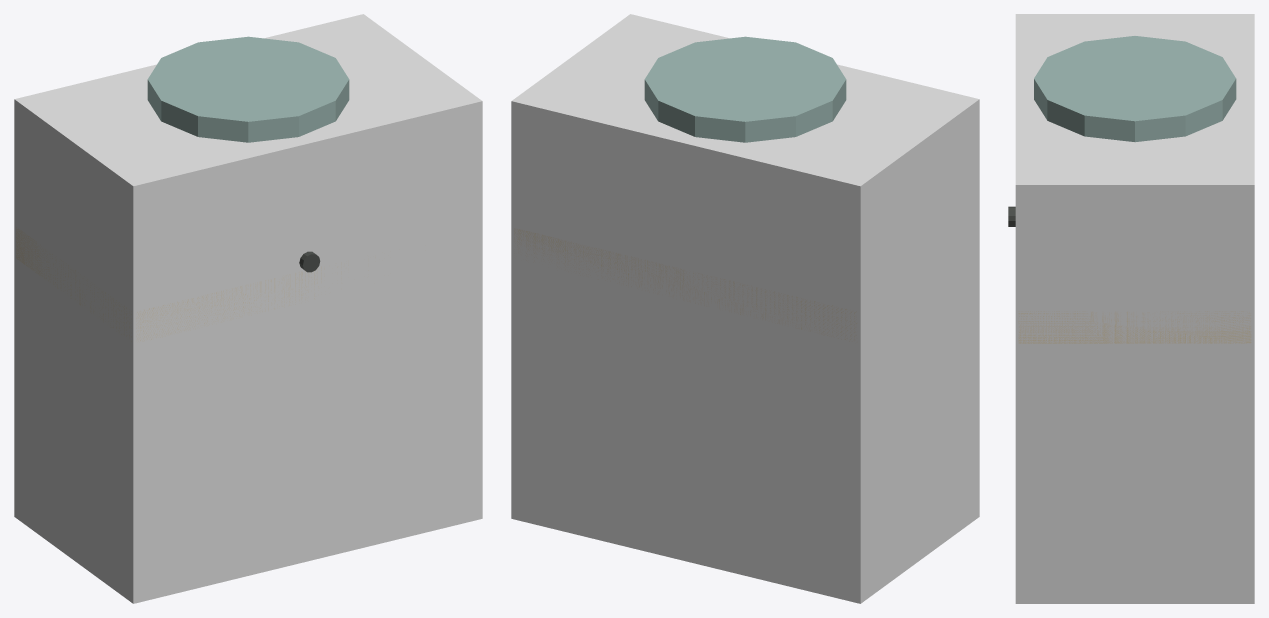
The model's file is hydration-station_basic.glb.
The picture shows the model from 3 angles, left to right: view 1: azimuth 30°, elevation 25°; view 2: azimuth 150°, elevation 25°; view 3: azimuth 270°, elevation 25°; orthographic projection.
Visible parts, largest first — view 1: COL_hydration-station, MESH_Reservoir, MESH_Countertop; view 2: COL_hydration-station, MESH_Reservoir, MESH_Countertop; view 3: COL_hydration-station, MESH_Reservoir, MESH_Countertop.
Part boxes in pixels (x1,y1,x2,y2): COL_hydration-station: (14,14,482,603); MESH_Reservoir: (147,36,349,142); MESH_Countertop: (16,227,375,341); COL_hydration-station: (511,14,979,603); MESH_Reservoir: (644,36,846,142); MESH_Countertop: (514,228,856,341); COL_hydration-station: (1015,14,1254,603); MESH_Reservoir: (1034,36,1236,142); MESH_Countertop: (1018,311,1251,343).
Bounding box in the file's own units: 1.05 × 1.26 × 0.6386.
